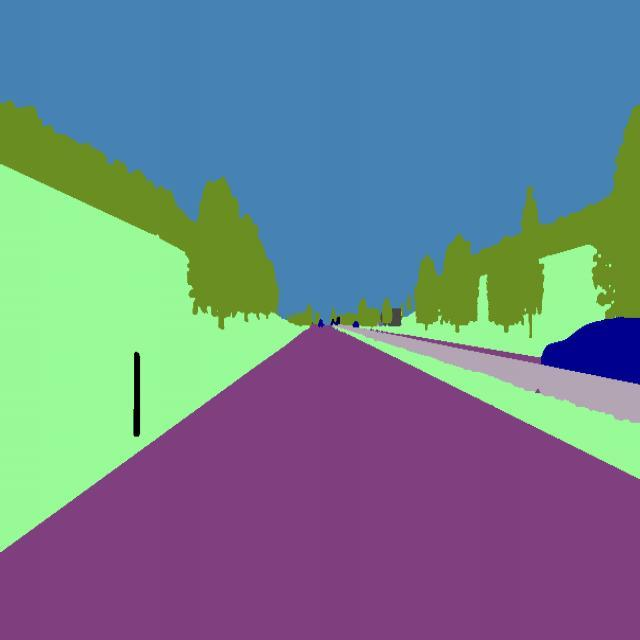safe: (540, 301, 640, 404), (314, 315, 327, 331), (351, 320, 362, 333)
